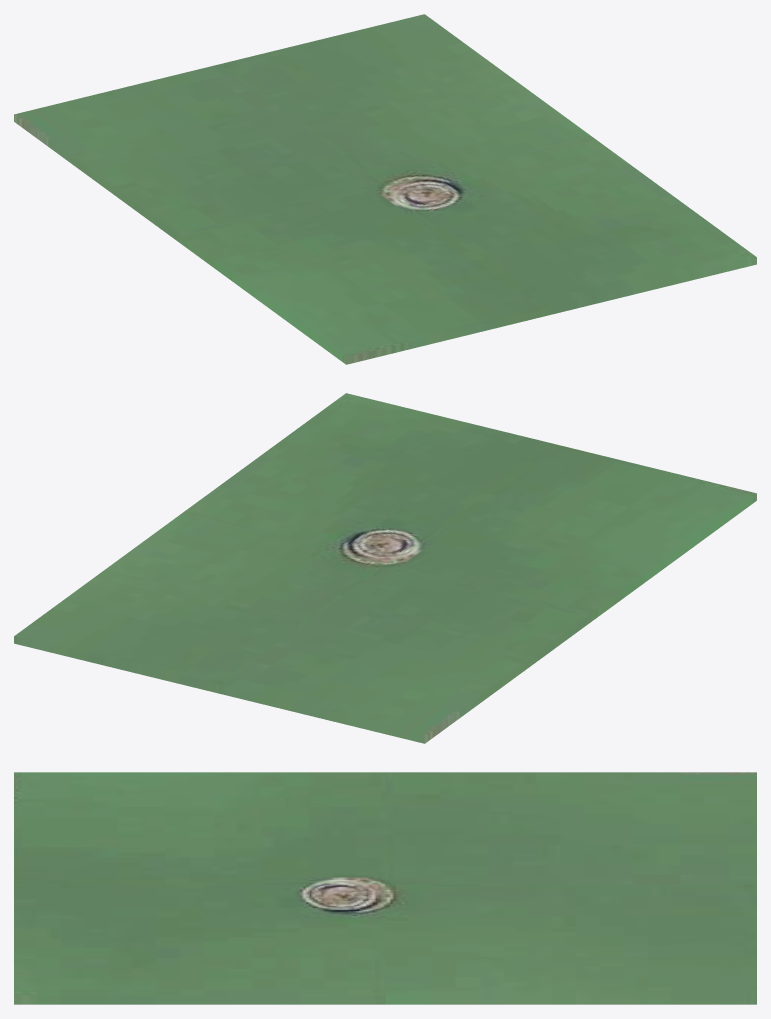
3 renders of one model, top to bottom at view 1: azimuth 30°, elevation 25°; view 2: azimuth 150°, elevation 25°; view 3: azimuth 270°, elevation 25°, orthographic. The views are drawn at different scales.
Visible parts, largest first — view 1: 30436272704361535401_0; view 2: 30436272704361535401_0; view 3: 30436272704361535401_0.
Part boxes in pixels (x1,y1,x2,y2): 30436272704361535401_0: (14, 14, 756, 364); 30436272704361535401_0: (14, 393, 756, 743); 30436272704361535401_0: (14, 772, 756, 1004).
Size of the model in its own units: 27.32 by 0.6193 by 38.26.
1 material, 1 textured.
